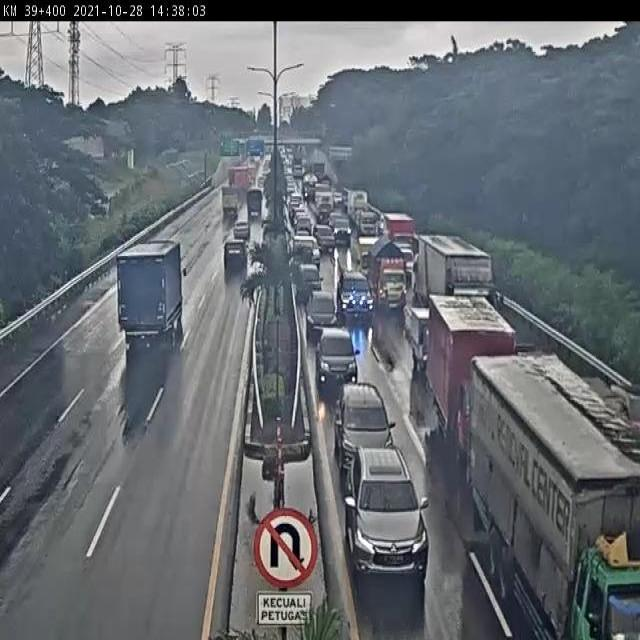big truck: (461, 340, 640, 640), (421, 292, 522, 456), (409, 225, 508, 319)
car: (336, 436, 433, 584), (326, 373, 397, 472), (309, 320, 360, 392), (402, 297, 437, 380), (331, 267, 376, 325), (302, 286, 342, 338), (220, 237, 249, 280), (234, 209, 259, 244)
small truck: (113, 233, 190, 352), (370, 238, 411, 322), (214, 180, 242, 228), (241, 188, 267, 231)
